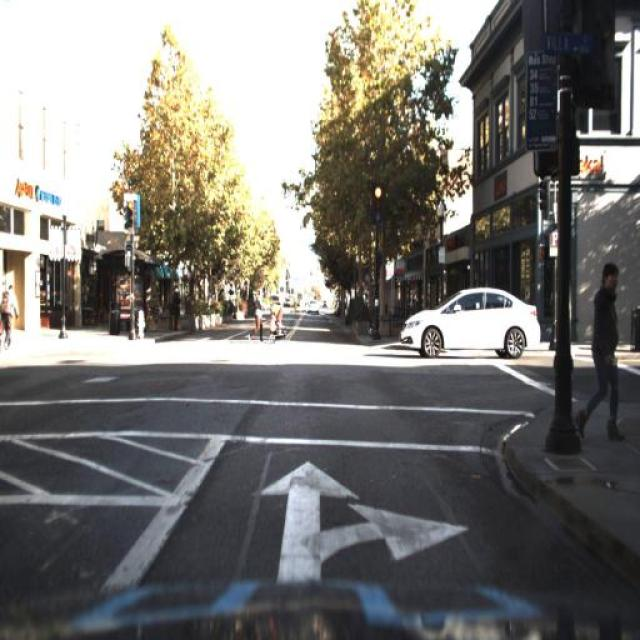car: (386, 280, 554, 358)
trafficLight: (575, 262, 626, 444), (250, 282, 286, 348)
trafficLight-RedLeft: (116, 187, 139, 236), (370, 182, 385, 222), (120, 193, 134, 228)
